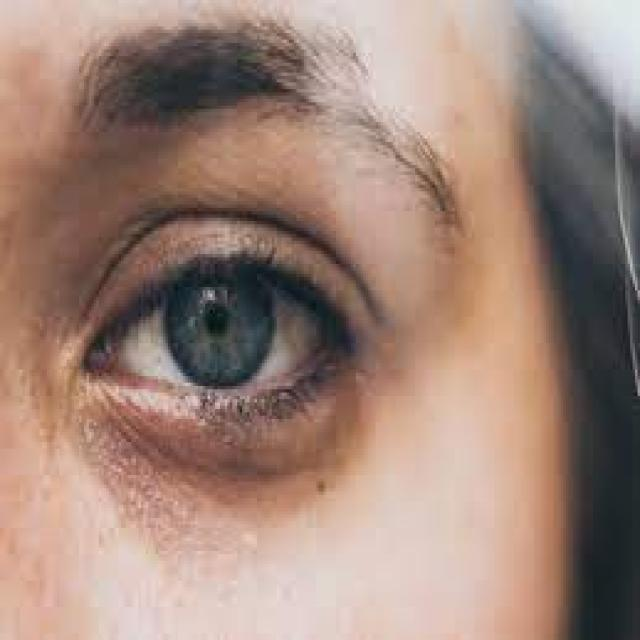Puffy Eyes - v3 Dark Circle: (84, 384, 386, 552)
